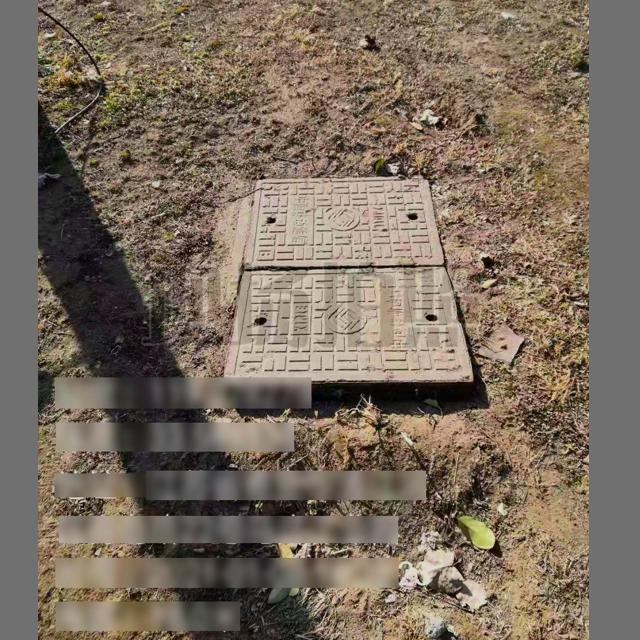uncovered: (224, 176, 481, 404)
